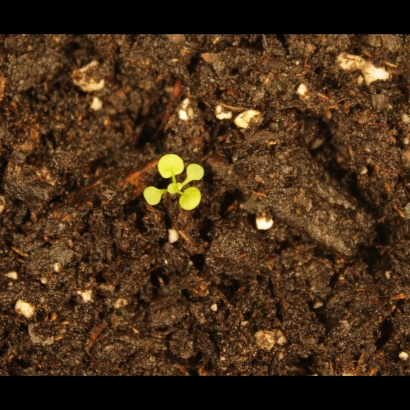leaf: (156, 150, 186, 180), (138, 184, 166, 208), (179, 187, 204, 213), (185, 161, 208, 184), (166, 177, 189, 200)
